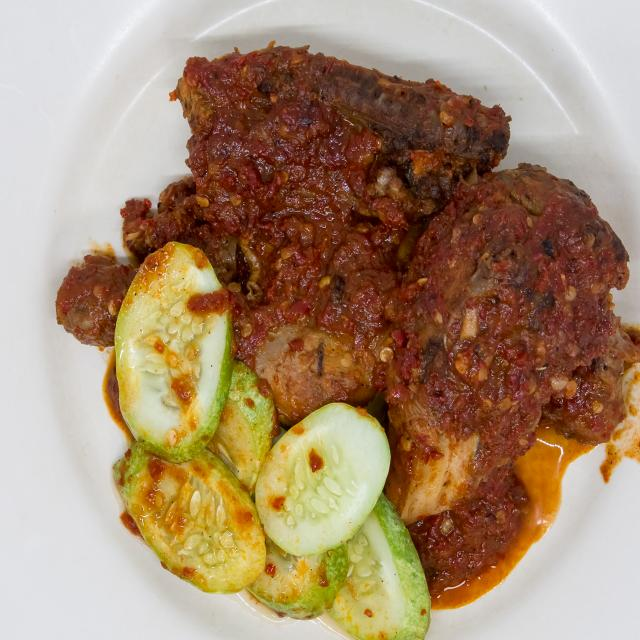Ayam-Bumbu-Rujak: (48, 33, 634, 606)
